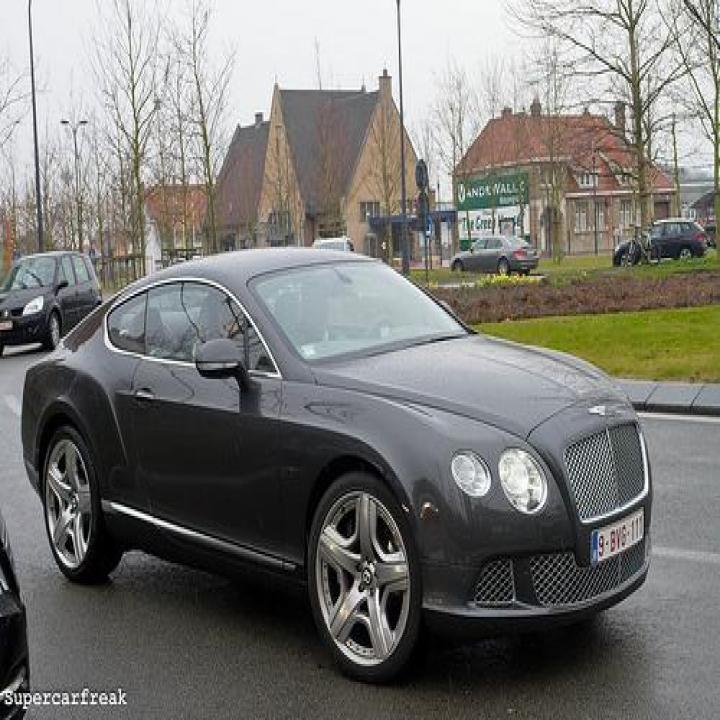car: (20, 242, 654, 684), (0, 249, 102, 357), (612, 217, 707, 267), (449, 233, 539, 276)
plat: (590, 506, 644, 568)
